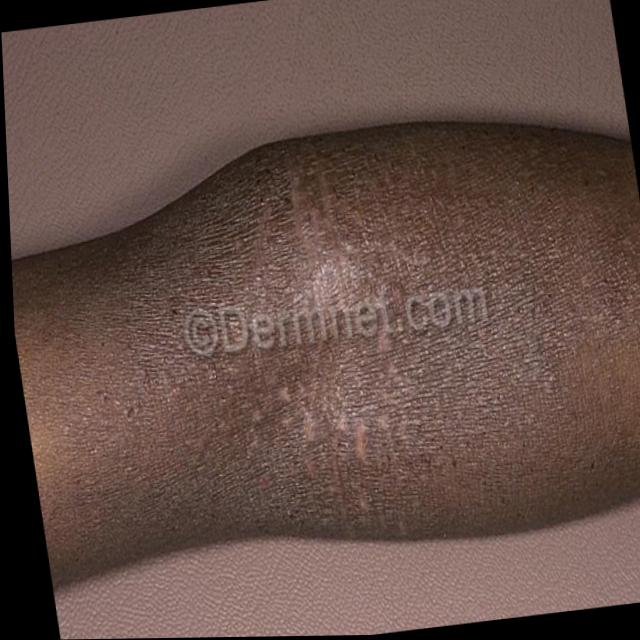liquenificacion 1: (6, 118, 640, 633)
liquenificacion 2: (6, 118, 640, 633)
